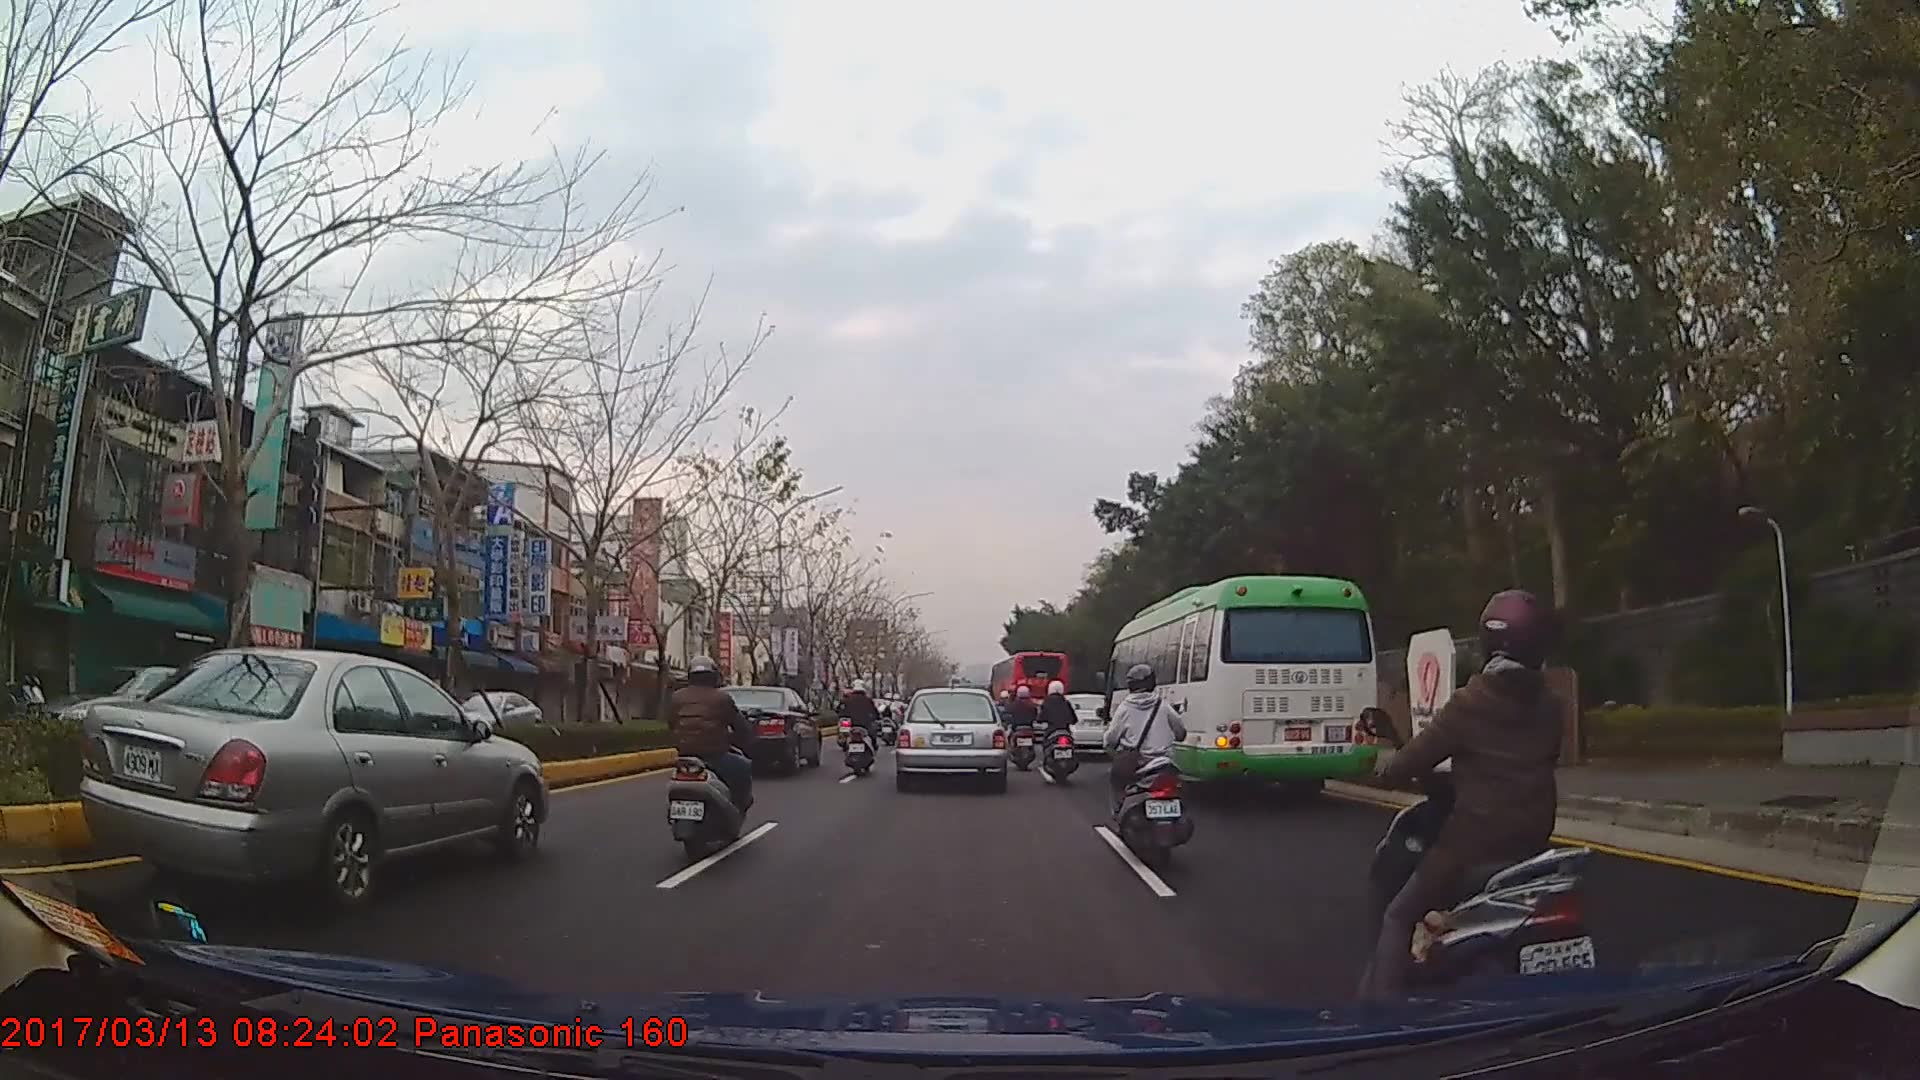rider: (1362, 584, 1601, 1032), (660, 654, 751, 866), (1109, 662, 1196, 871), (1037, 680, 1081, 783), (841, 679, 883, 776), (1007, 682, 1042, 772), (878, 692, 903, 745)
vehicle: (80, 643, 548, 904), (1105, 573, 1377, 802), (30, 663, 250, 750), (689, 684, 821, 774), (895, 687, 1008, 791), (991, 646, 1070, 739), (432, 686, 546, 748)
